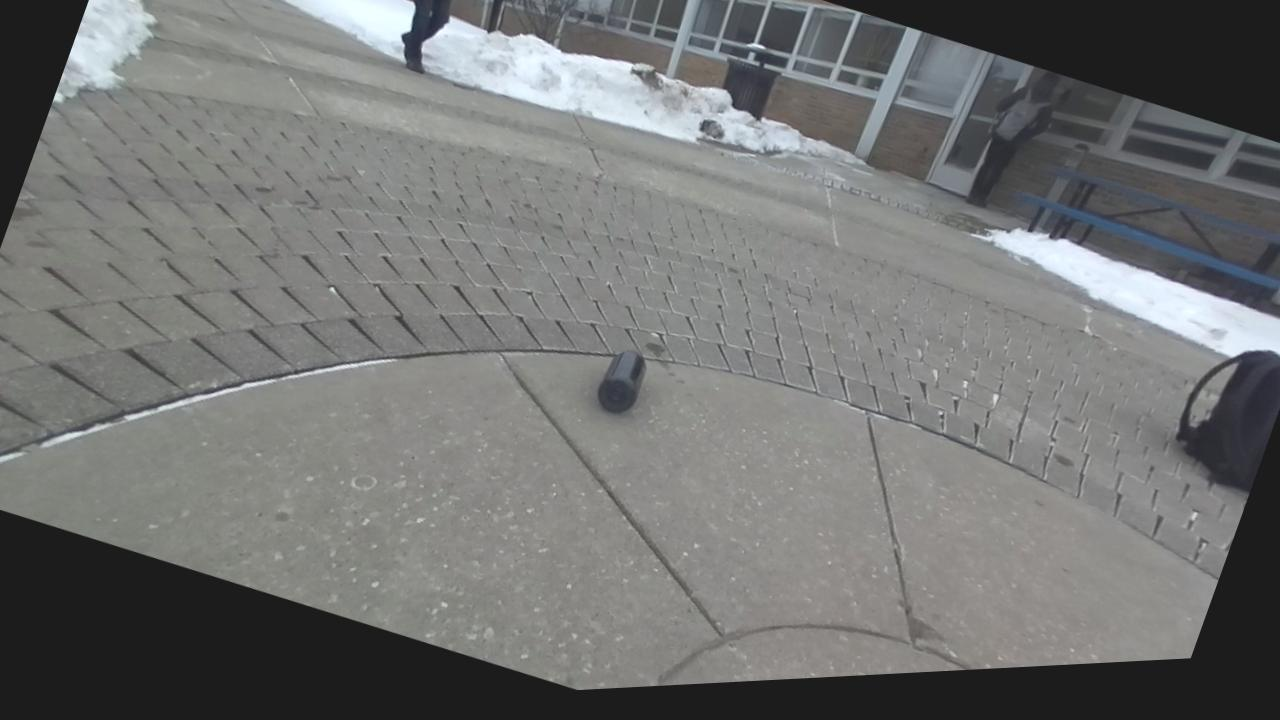bottle: (597, 350, 643, 413)
